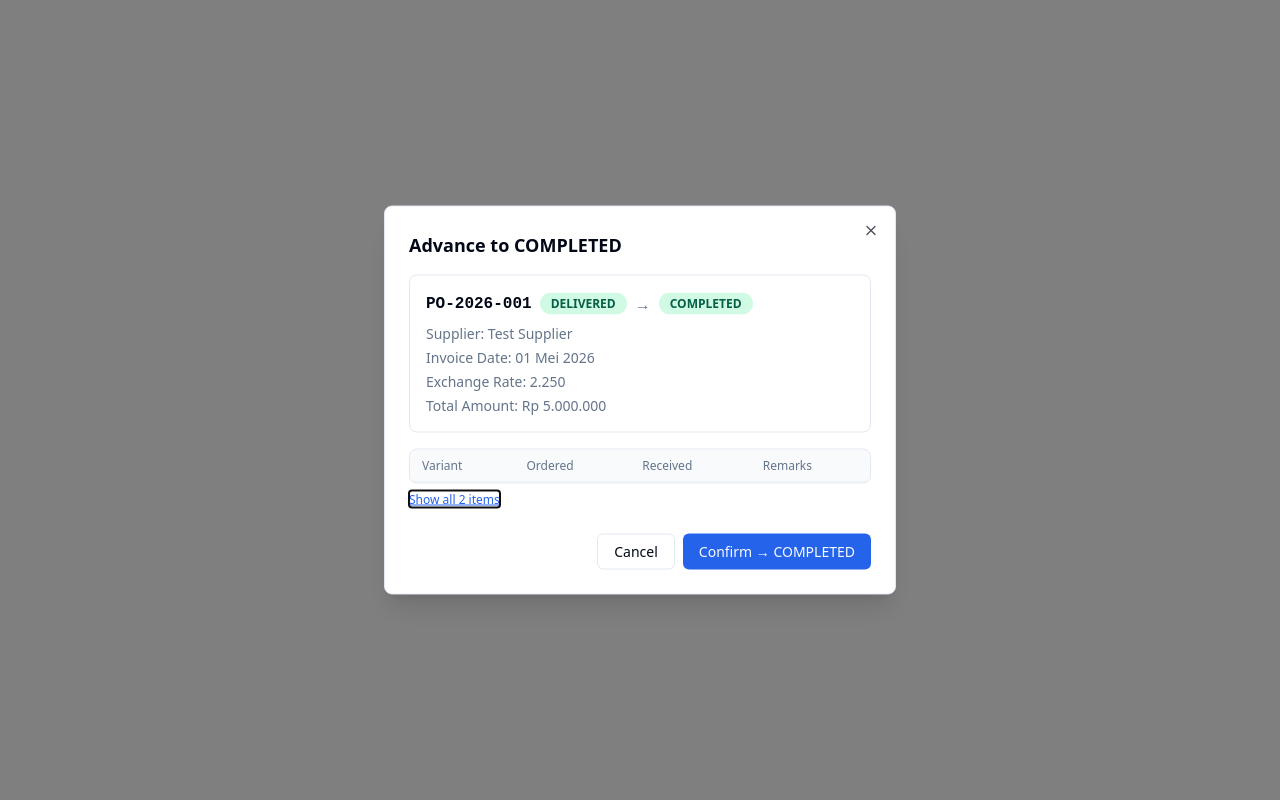
Test: COMPLETED transition — editable received qty › shows a distinct over-receipt warning (not the under-receipt one) when an item is over-received
Step 1. Click the button "Show all 2 items" → (454,500), box [409,492,500,508]
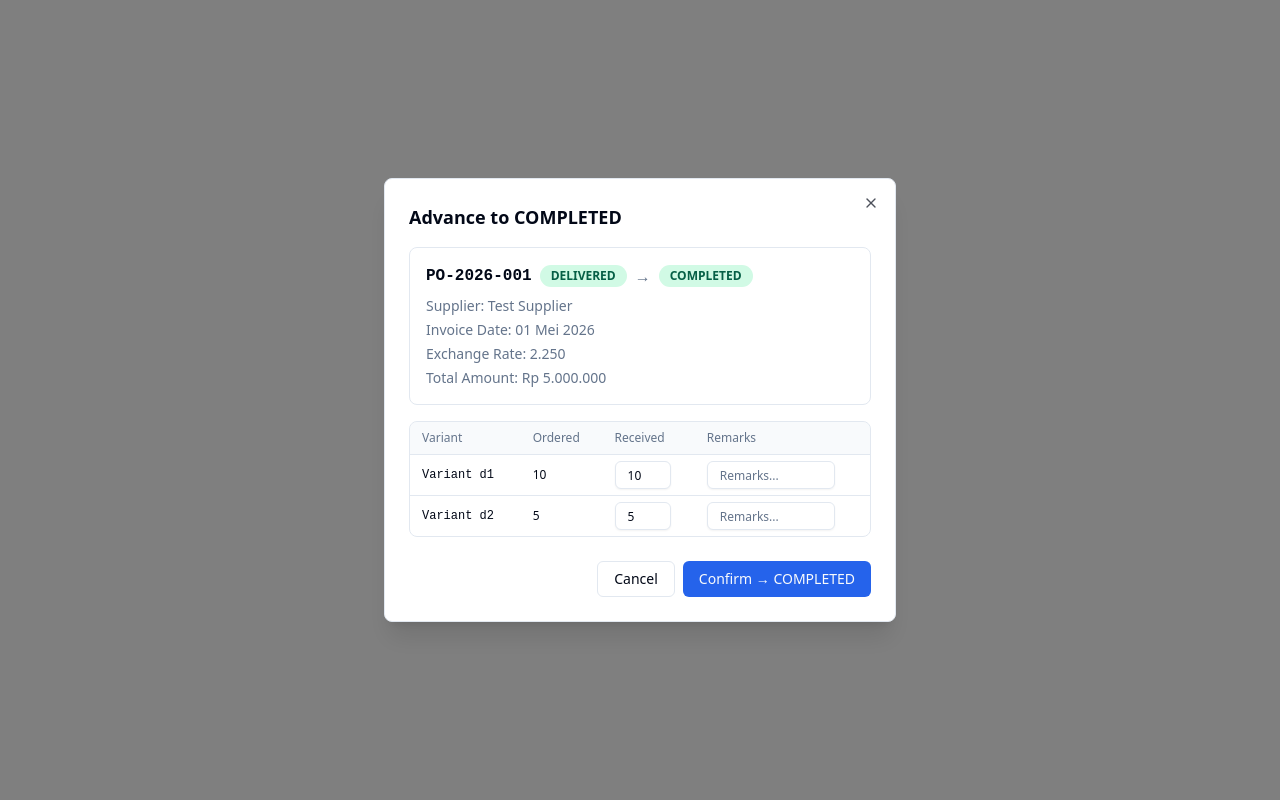
Step 2. Replace the text in the number field showing "10" in the row of "Variant d1" with "12" → (643,475), box [615,461,671,489]
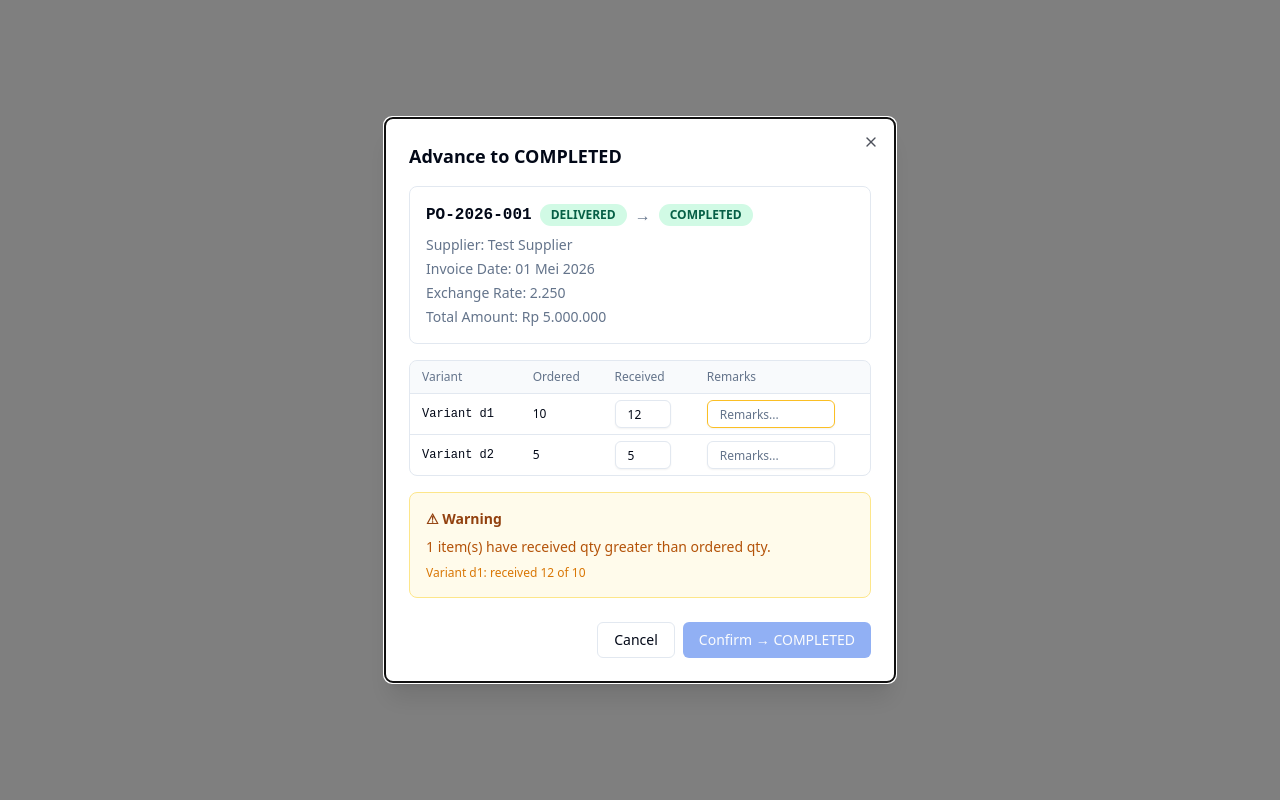
Result: the text "1 item(s) have received qty greater than ordered qty." is shown at [426,537,771,556]
Result: the list item "Variant d1: received 12 of 10" is shown at [426,564,586,581]
